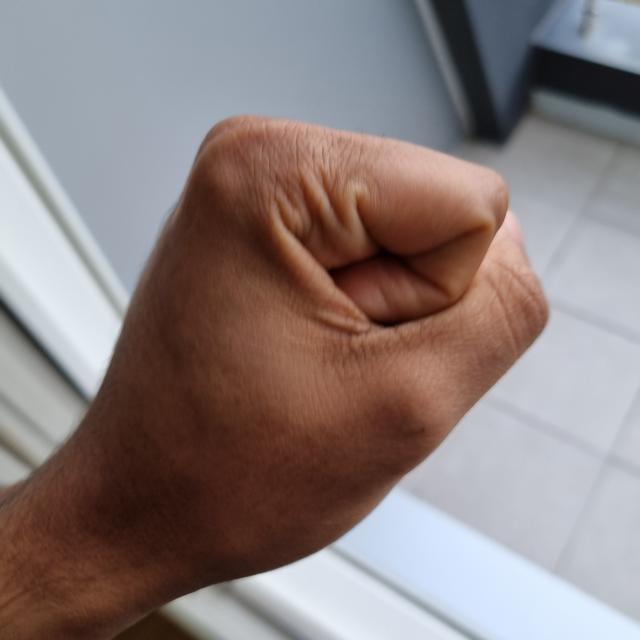Rock: (57, 114, 545, 591)
